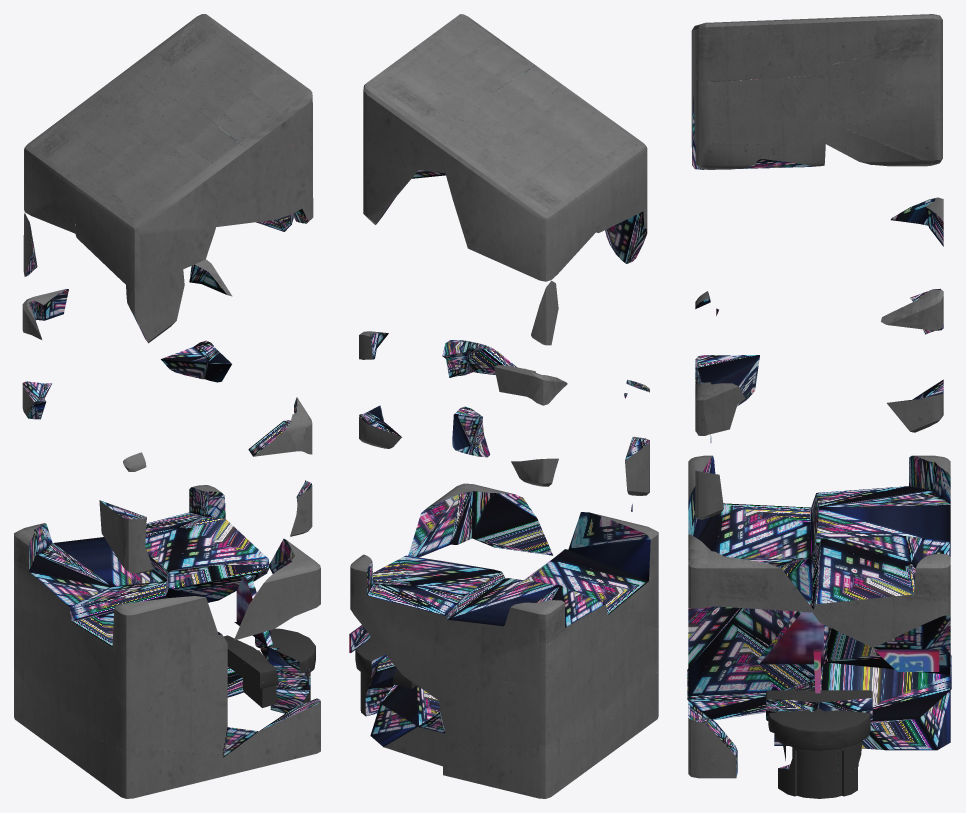
Rendered from AndyGebouw7_Broken.fbx.
3 renders of one model, left to right at view 1: azimuth 30°, elevation 25°; view 2: azimuth 150°, elevation 25°; view 3: azimuth 270°, elevation 25°, orthographic. The views are drawn at different scales.
Parts seen in each view (by area): view 1: Cyber Skyscraper.027_cell.101, Cyber Skyscraper.027_cell.184, Cyber Skyscraper.027_cell.157, Cyber Skyscraper.027_cell.121, Cyber Skyscraper.027_cell.122, Cyber Skyscraper.027_cell.159, Cyber Skyscraper.027_cell.091, Cyber Skyscraper.027_cell.161, Cyber Skyscraper.027_cell.099, Cyber Skyscraper.027_cell.011, Cyber Skyscraper.027_cell.129, Cyber Skyscraper.027_cell.160 (+26 smaller); view 2: Cyber Skyscraper.027_cell.184, Cyber Skyscraper.027_cell.140, Cyber Skyscraper.027_cell.157, Cyber Skyscraper.027_cell.171, Cyber Skyscraper.027_cell.023, Cyber Skyscraper.027_cell.131, Cyber Skyscraper.027_cell.121, Cyber Skyscraper.027_cell.101, Cyber Skyscraper.027_cell.078, Cyber Skyscraper.027_cell.091, Cyber Skyscraper.027_cell.160, Cyber Skyscraper.027_cell.010 (+21 smaller); view 3: Cyber Skyscraper.027_cell.161, Cyber Skyscraper.027_cell.122, Cyber Skyscraper.027_cell.010, Cyber Skyscraper.027_cell.149, Cyber Skyscraper.027_cell.121, Cyber Skyscraper.027_cell.157, Cyber Skyscraper.027_cell.067, Cyber Skyscraper.027_cell.156, Cyber Skyscraper.027_cell.028, Cyber Skyscraper.027_cell.091, Cyber Skyscraper.027_cell.078, Cyber Skyscraper.027_cell.004 (+31 smaller).
Part boxes in pixels (x1=…): Cyber Skyscraper.027_cell.101: x1=103, y1=128, x2=217, y2=276; Cyber Skyscraper.027_cell.184: x1=24, y1=81, x2=160, y2=233; Cyber Skyscraper.027_cell.157: x1=14, y1=537, x2=168, y2=629; Cyber Skyscraper.027_cell.121: x1=190, y1=52, x2=312, y2=146; Cyber Skyscraper.027_cell.122: x1=145, y1=517, x2=269, y2=602; Cyber Skyscraper.027_cell.159: x1=209, y1=141, x2=312, y2=226; Cyber Skyscraper.027_cell.091: x1=72, y1=615, x2=226, y2=712; Cyber Skyscraper.027_cell.161: x1=99, y1=597, x2=227, y2=754; Cyber Skyscraper.027_cell.099: x1=66, y1=727, x2=223, y2=798; Cyber Skyscraper.027_cell.011: x1=75, y1=167, x2=164, y2=288; Cyber Skyscraper.027_cell.129: x1=70, y1=620, x2=146, y2=750; Cyber Skyscraper.027_cell.160: x1=112, y1=596, x2=218, y2=657; Cyber Skyscraper.027_cell.184: x1=445, y1=120, x2=597, y2=281; Cyber Skyscraper.027_cell.140: x1=439, y1=627, x2=606, y2=748; Cyber Skyscraper.027_cell.157: x1=447, y1=578, x2=607, y2=686; Cyber Skyscraper.027_cell.171: x1=350, y1=582, x2=458, y2=700; Cyber Skyscraper.027_cell.023: x1=443, y1=738, x2=602, y2=798; Cyber Skyscraper.027_cell.131: x1=363, y1=92, x2=488, y2=173; Cyber Skyscraper.027_cell.121: x1=413, y1=14, x2=534, y2=98; Cyber Skyscraper.027_cell.101: x1=517, y1=85, x2=644, y2=162; Cyber Skyscraper.027_cell.078: x1=365, y1=52, x2=502, y2=129; Cyber Skyscraper.027_cell.091: x1=553, y1=549, x2=658, y2=627; Cyber Skyscraper.027_cell.160: x1=568, y1=512, x2=658, y2=580; Cyber Skyscraper.027_cell.010: x1=370, y1=684, x2=447, y2=766; Cyber Skyscraper.027_cell.161: x1=688, y1=523, x2=814, y2=695; Cyber Skyscraper.027_cell.122: x1=811, y1=536, x2=923, y2=649; Cyber Skyscraper.027_cell.010: x1=820, y1=662, x2=950, y2=750; Cyber Skyscraper.027_cell.149: x1=711, y1=75, x2=833, y2=144; Cyber Skyscraper.027_cell.121: x1=694, y1=18, x2=821, y2=82; Cyber Skyscraper.027_cell.157: x1=810, y1=486, x2=950, y2=565; Cyber Skyscraper.027_cell.067: x1=828, y1=89, x2=942, y2=162; Cyber Skyscraper.027_cell.156: x1=700, y1=556, x2=813, y2=612; Cyber Skyscraper.027_cell.028: x1=819, y1=14, x2=938, y2=67; Cyber Skyscraper.027_cell.091: x1=698, y1=503, x2=810, y2=555; Cyber Skyscraper.027_cell.078: x1=821, y1=14, x2=937, y2=94; Cyber Skyscraper.027_cell.004: x1=757, y1=600, x2=827, y2=664.
Size of the model in its own units: 1968 by 5146 by 1628.
